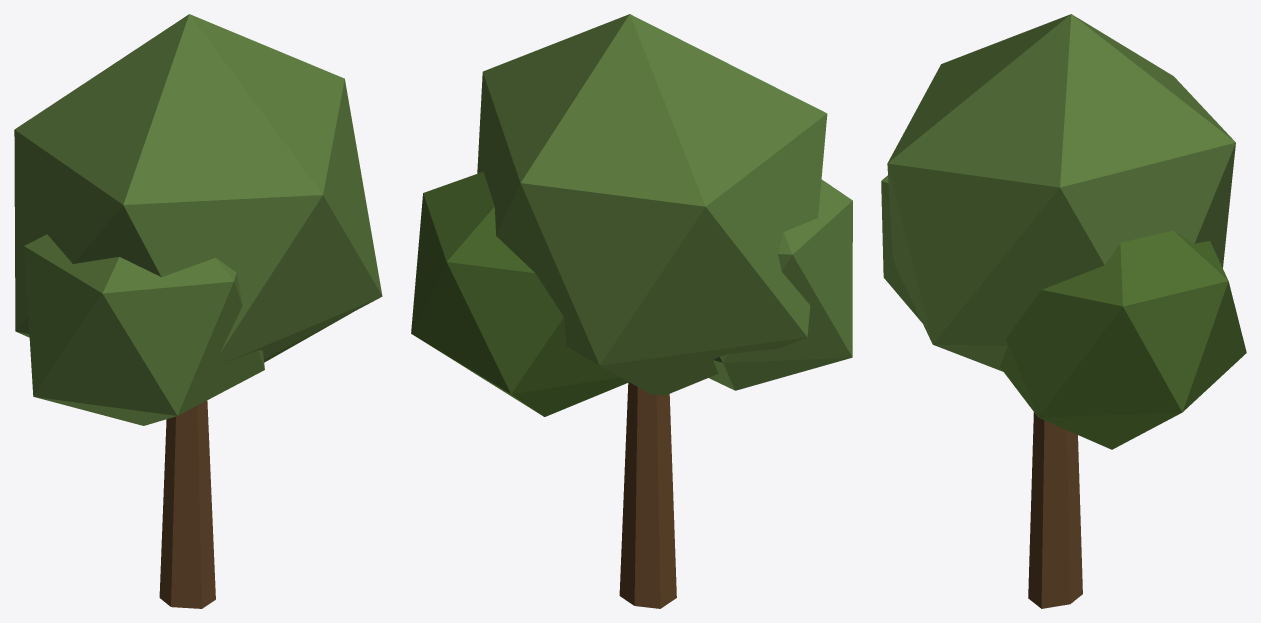
File: fruit_tree.glb
3 views of the same model, side by side, from view 1: azimuth 30°, elevation 25°; view 2: azimuth 150°, elevation 25°; view 3: azimuth 270°, elevation 25° (orthographic).
Parts seen in each view (by area): view 1: fruit_tree; view 2: fruit_tree; view 3: fruit_tree.
Boxes of the visible parts, bbox=[...] form: fruit_tree: bbox=[14, 14, 382, 608]; fruit_tree: bbox=[411, 14, 852, 608]; fruit_tree: bbox=[881, 14, 1246, 608].
Size of the model in its own units: 3.28 by 4.97 by 2.79.
